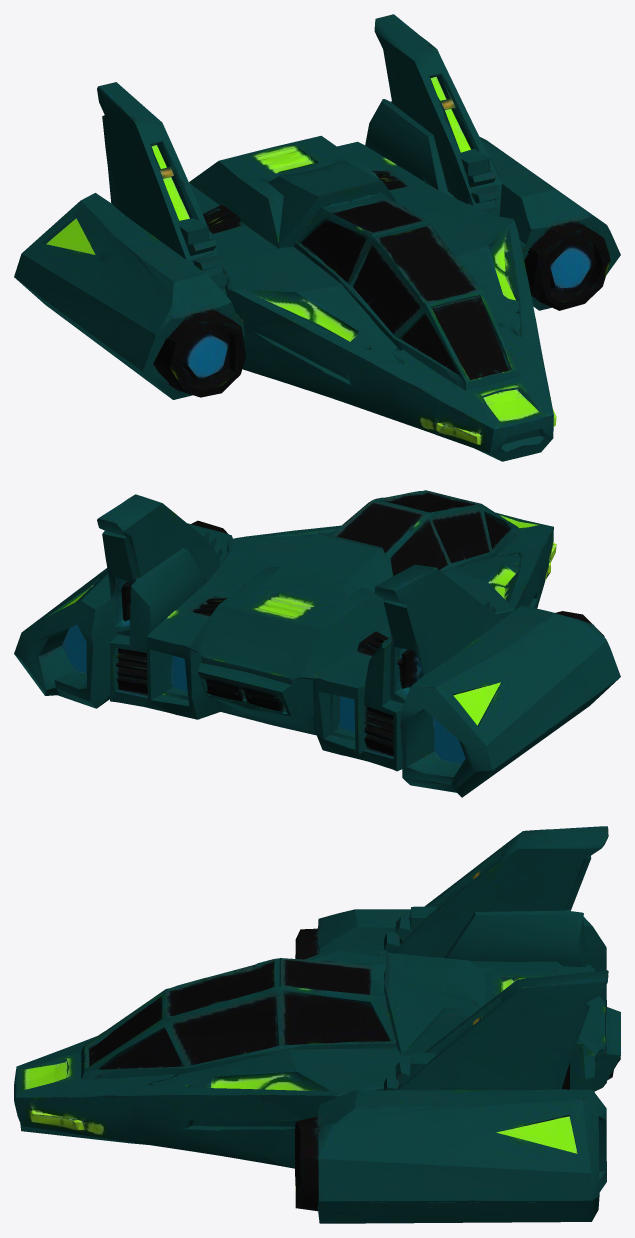
Rendered from nave_18.obj.
3 views of the same model, one above another, from view 1: azimuth 30°, elevation 25°; view 2: azimuth 150°, elevation 25°; view 3: azimuth 270°, elevation 25° (orthographic). The views are drawn at different scales.
Visible parts, largest first — view 1: geometry_0; view 2: geometry_0; view 3: geometry_0.
Part boxes in pixels (x1=…): geometry_0: x1=14, y1=14, x2=620, y2=461; geometry_0: x1=14, y1=490, x2=620, y2=797; geometry_0: x1=14, y1=826, x2=620, y2=1223.
Size of the model in its own units: 6.79 by 2.89 by 7.
1 material, 1 textured.
